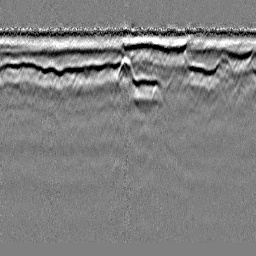cavity: (115, 53, 137, 82)
